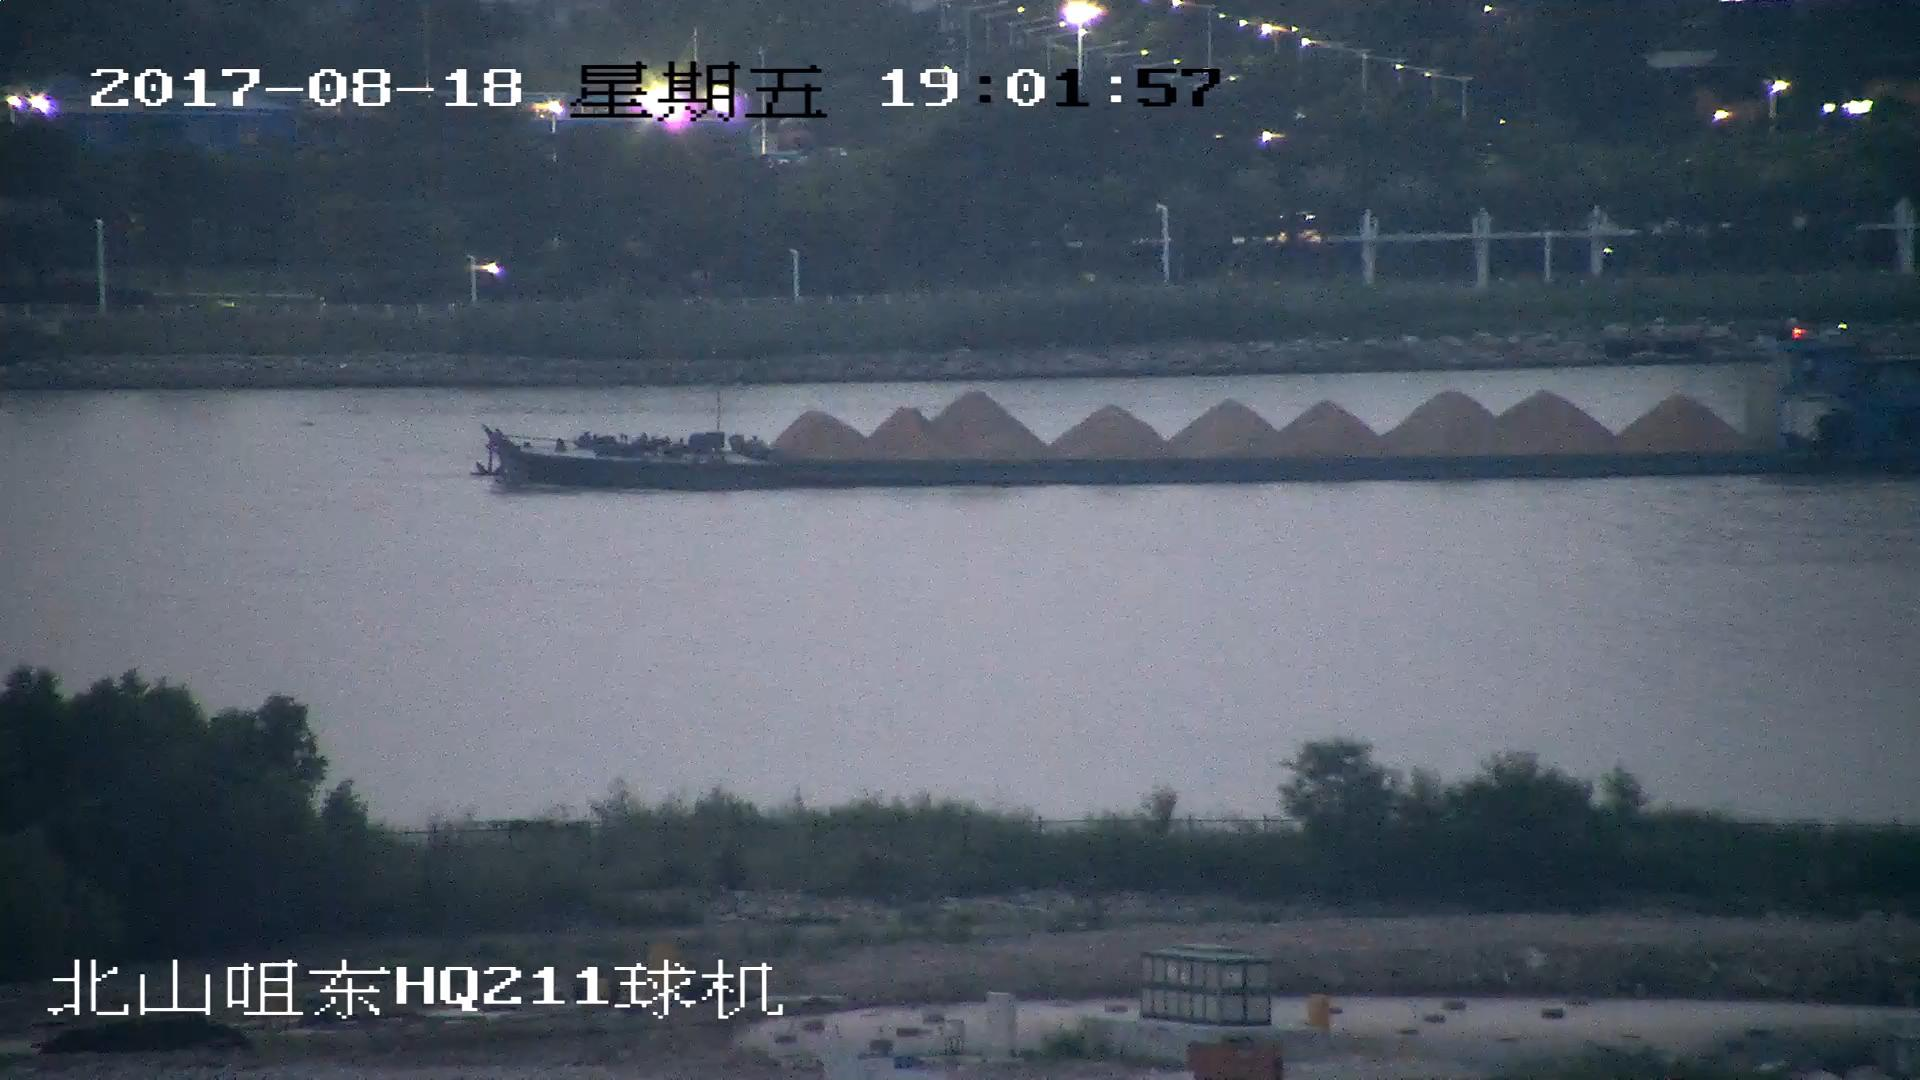Ship: (473, 331, 1920, 491)
